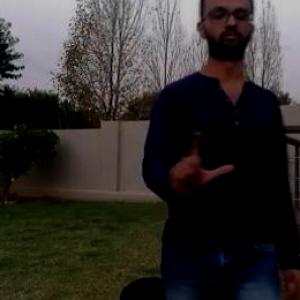land_hand: (163, 125, 233, 200)
